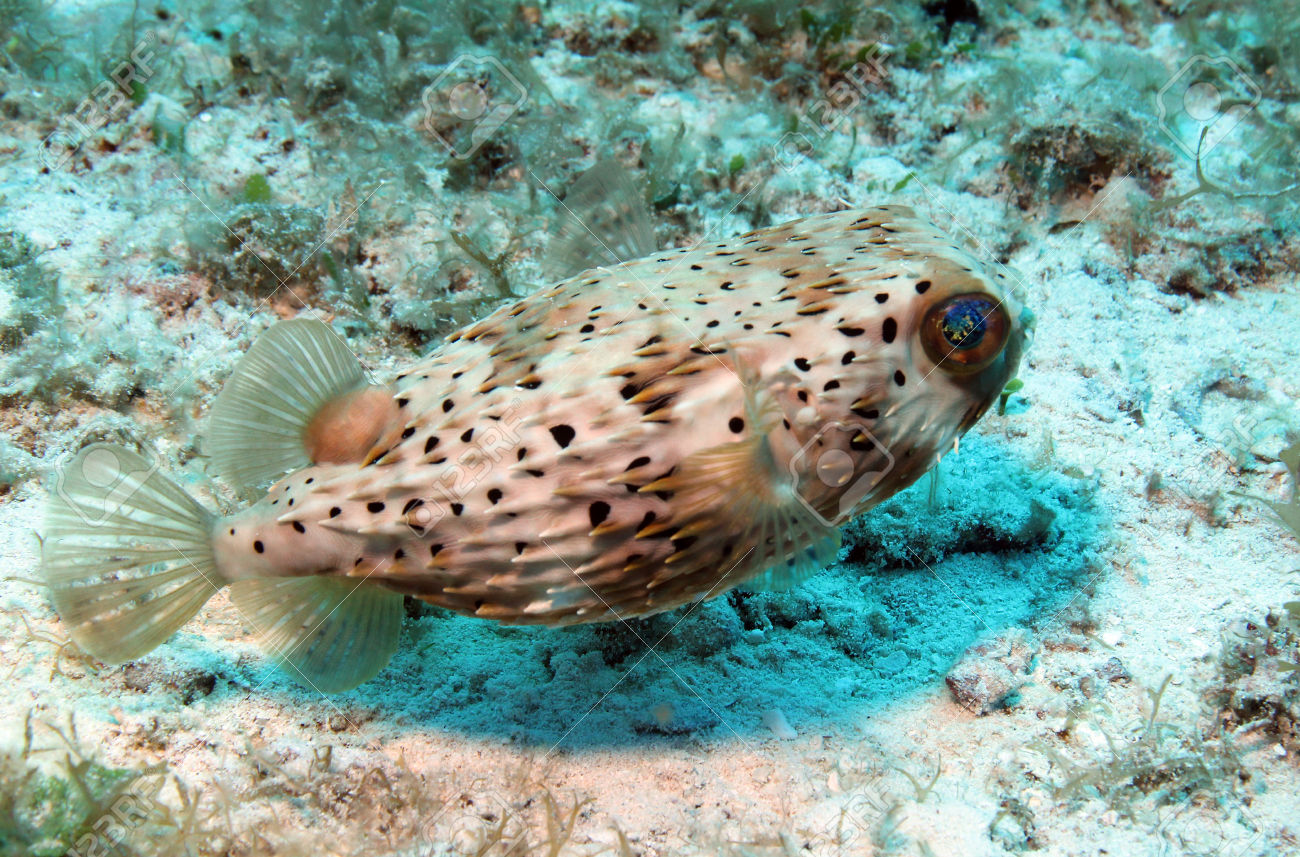Diodon_holocanthus: (54, 167, 1042, 706)
